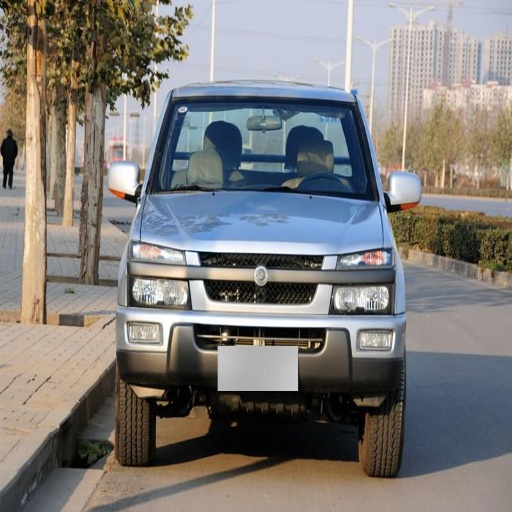back_right_light: (120, 250, 405, 410)
front_bumper: (155, 99, 375, 200)
front_left_door: (334, 248, 397, 311)
front_right_door: (129, 242, 186, 305)
front_right_light: (140, 192, 386, 254)
hood: (385, 171, 422, 210)
left_mirror: (106, 162, 141, 202)
trunk: (355, 380, 406, 477), (117, 387, 178, 466)
